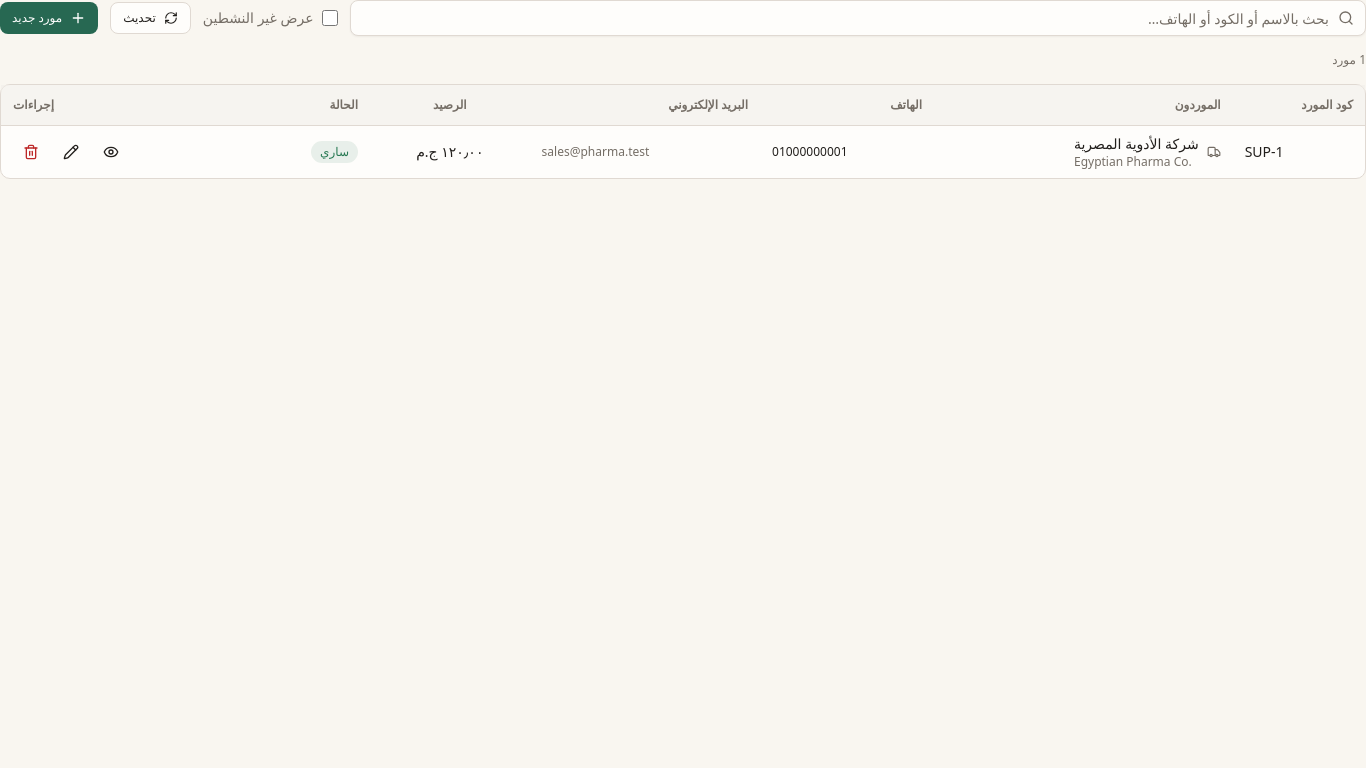
Scenario: SuppliersPage › deletes a supplier after confirmation
Expected: the text "شركة الأدوية المصرية" is shown, [1074,134,1199,154]
Step 1. Click the button named "حذف" → (31, 152), box [13,134,49,170]
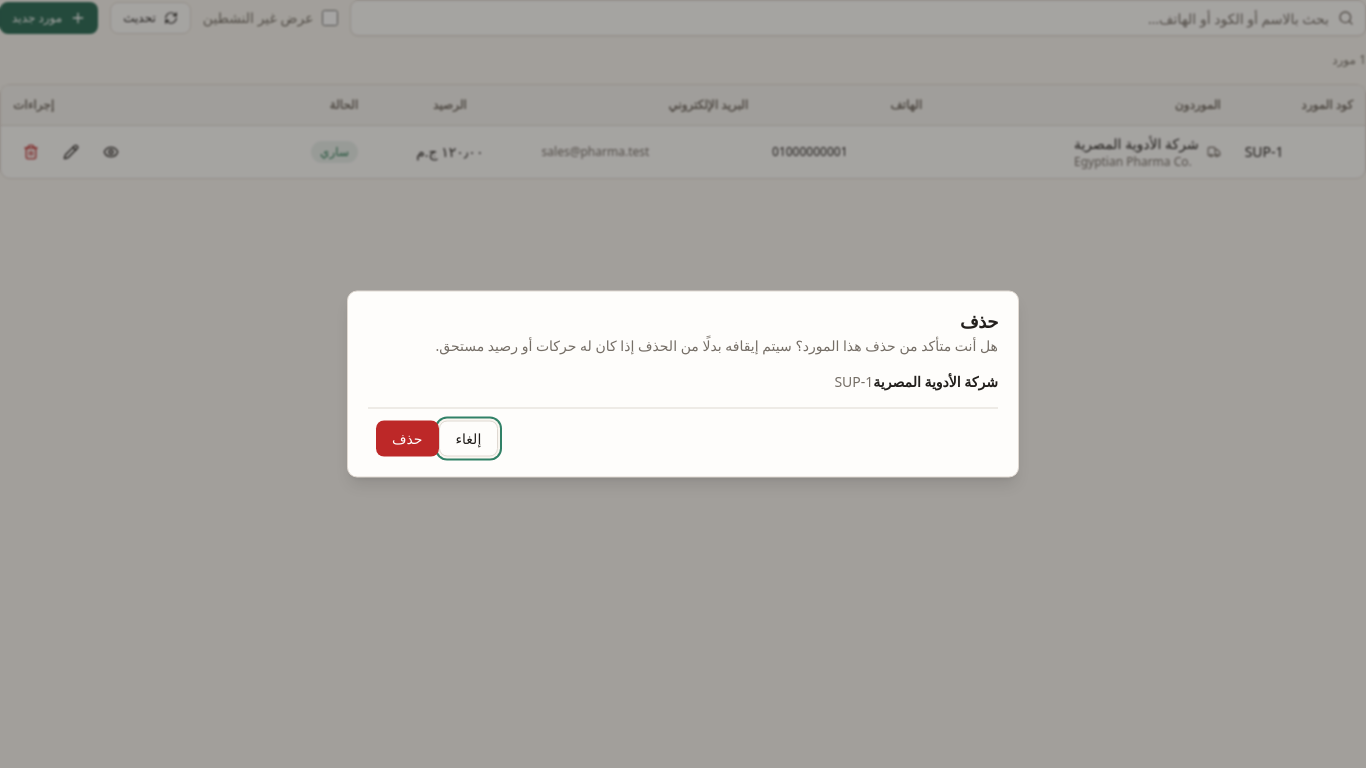
Step 2. Click the button "حذف" → (407, 438), box [376,420,438,456]
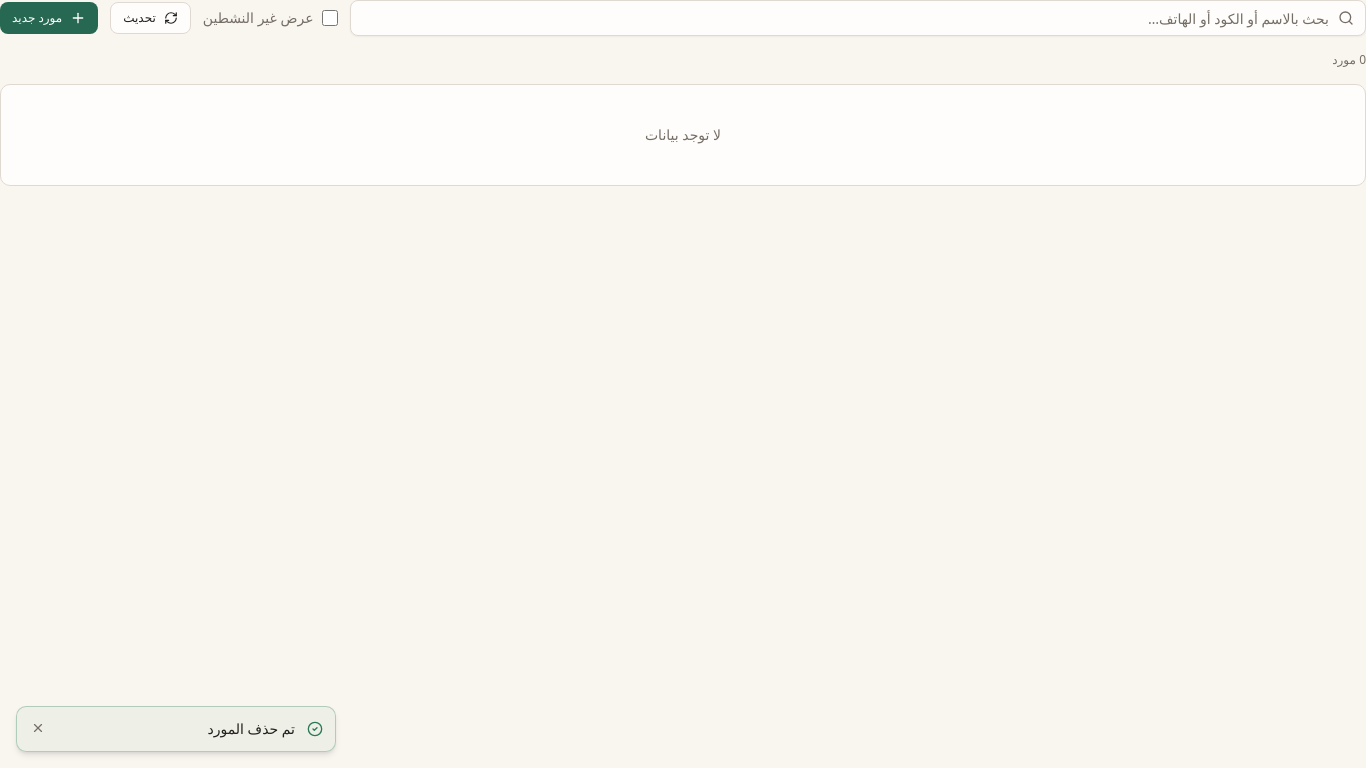
Now the text "تم حذف المورد" is shown, box [208,719,295,738]
Now the text "شركة الأدوية المصرية" is gone
